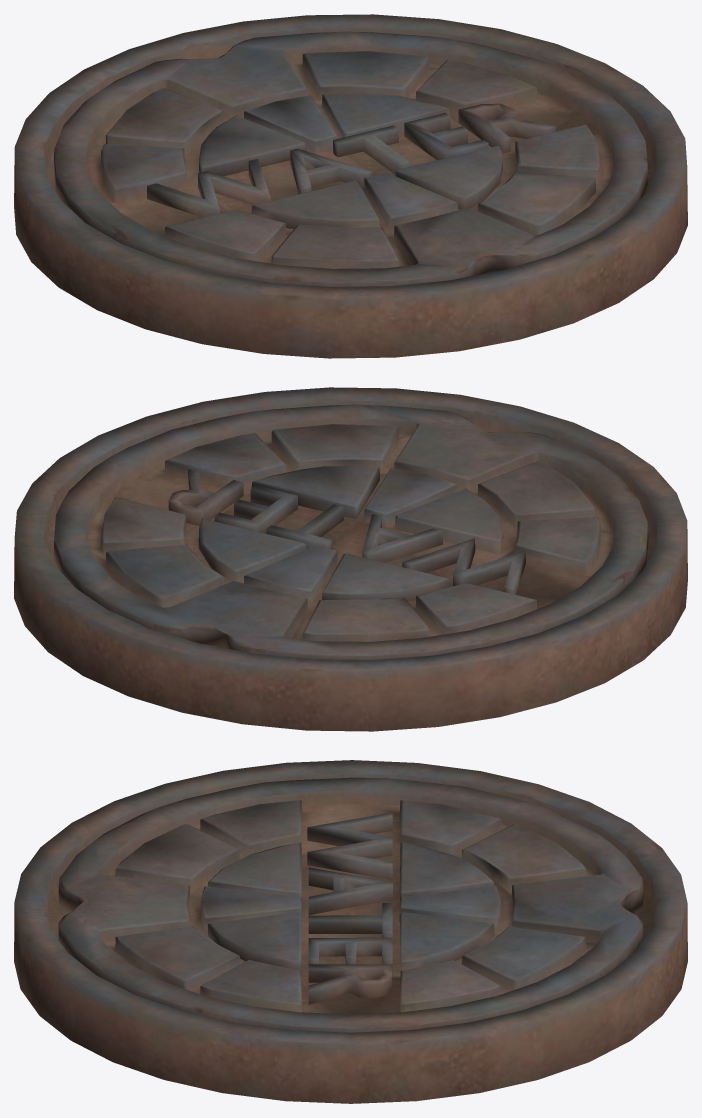
Rendered from mh_sewer.glb.
The picture shows the model from 3 angles, top to bottom: view 1: azimuth 30°, elevation 25°; view 2: azimuth 150°, elevation 25°; view 3: azimuth 270°, elevation 25°; orthographic projection.
Parts seen in each view (by area): view 1: water_manhole_cover_frame_w; view 2: water_manhole_cover_frame_w; view 3: water_manhole_cover_frame_w.
Part boxes in pixels (left/top/right/bottom): water_manhole_cover_frame_w: left=14, top=14, right=687, bottom=358; water_manhole_cover_frame_w: left=14, top=387, right=687, bottom=731; water_manhole_cover_frame_w: left=14, top=760, right=687, bottom=1103.
Size of the model in its own units: 0.8013 by 0.0785 by 0.8013.
Materials: 1 (1 with a texture image).
